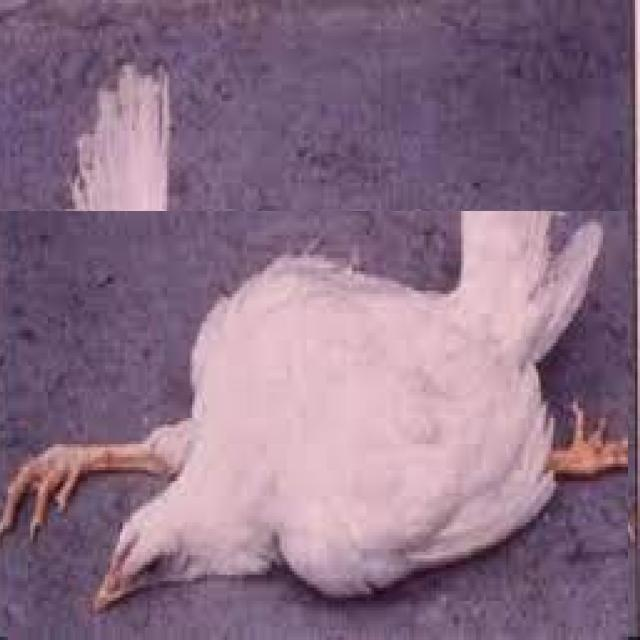AbNormal: (5, 223, 626, 608)
